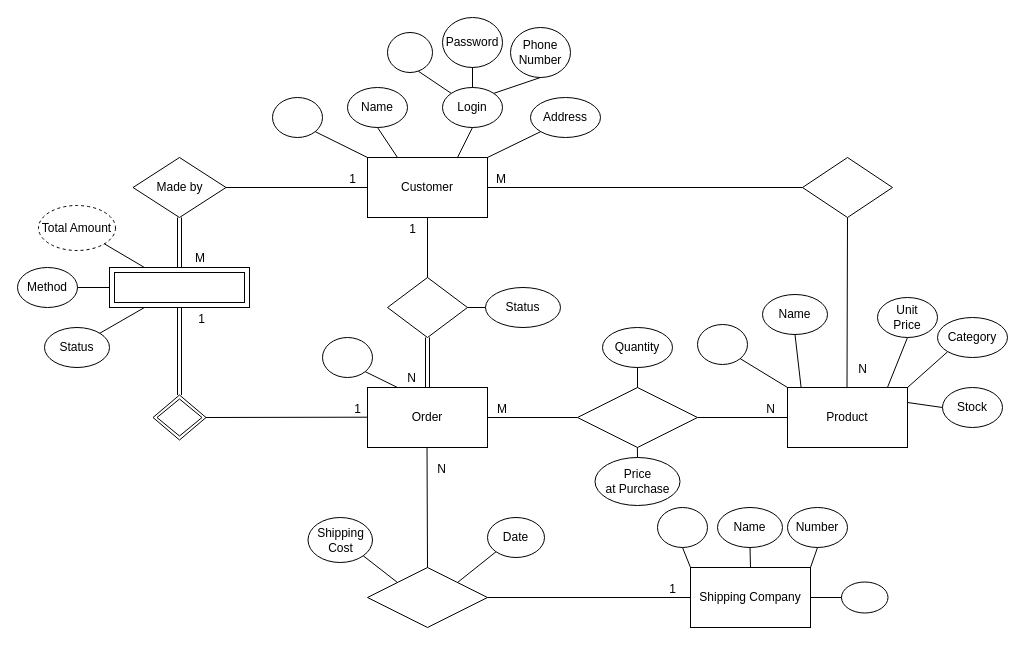
Image size: 1025x645. Some labels were removed from this diagram. Each missing label, with the centre of its shape:
"CId" goes at point 297,117.
"Contains" goes at point 637,417.
"Cost" goes at point 864,597.
"Email" goes at point 409,52.
"Make" goes at point 427,307.
"OId" goes at point 347,357.
"On" goes at point 179,417.
"Payment" goes at point 179,287.
"PId" goes at point 722,344.
"Shipped By" goes at point 427,597.
"Sid" goes at point 682,527.
"Wish Lists" goes at point 847,187.
